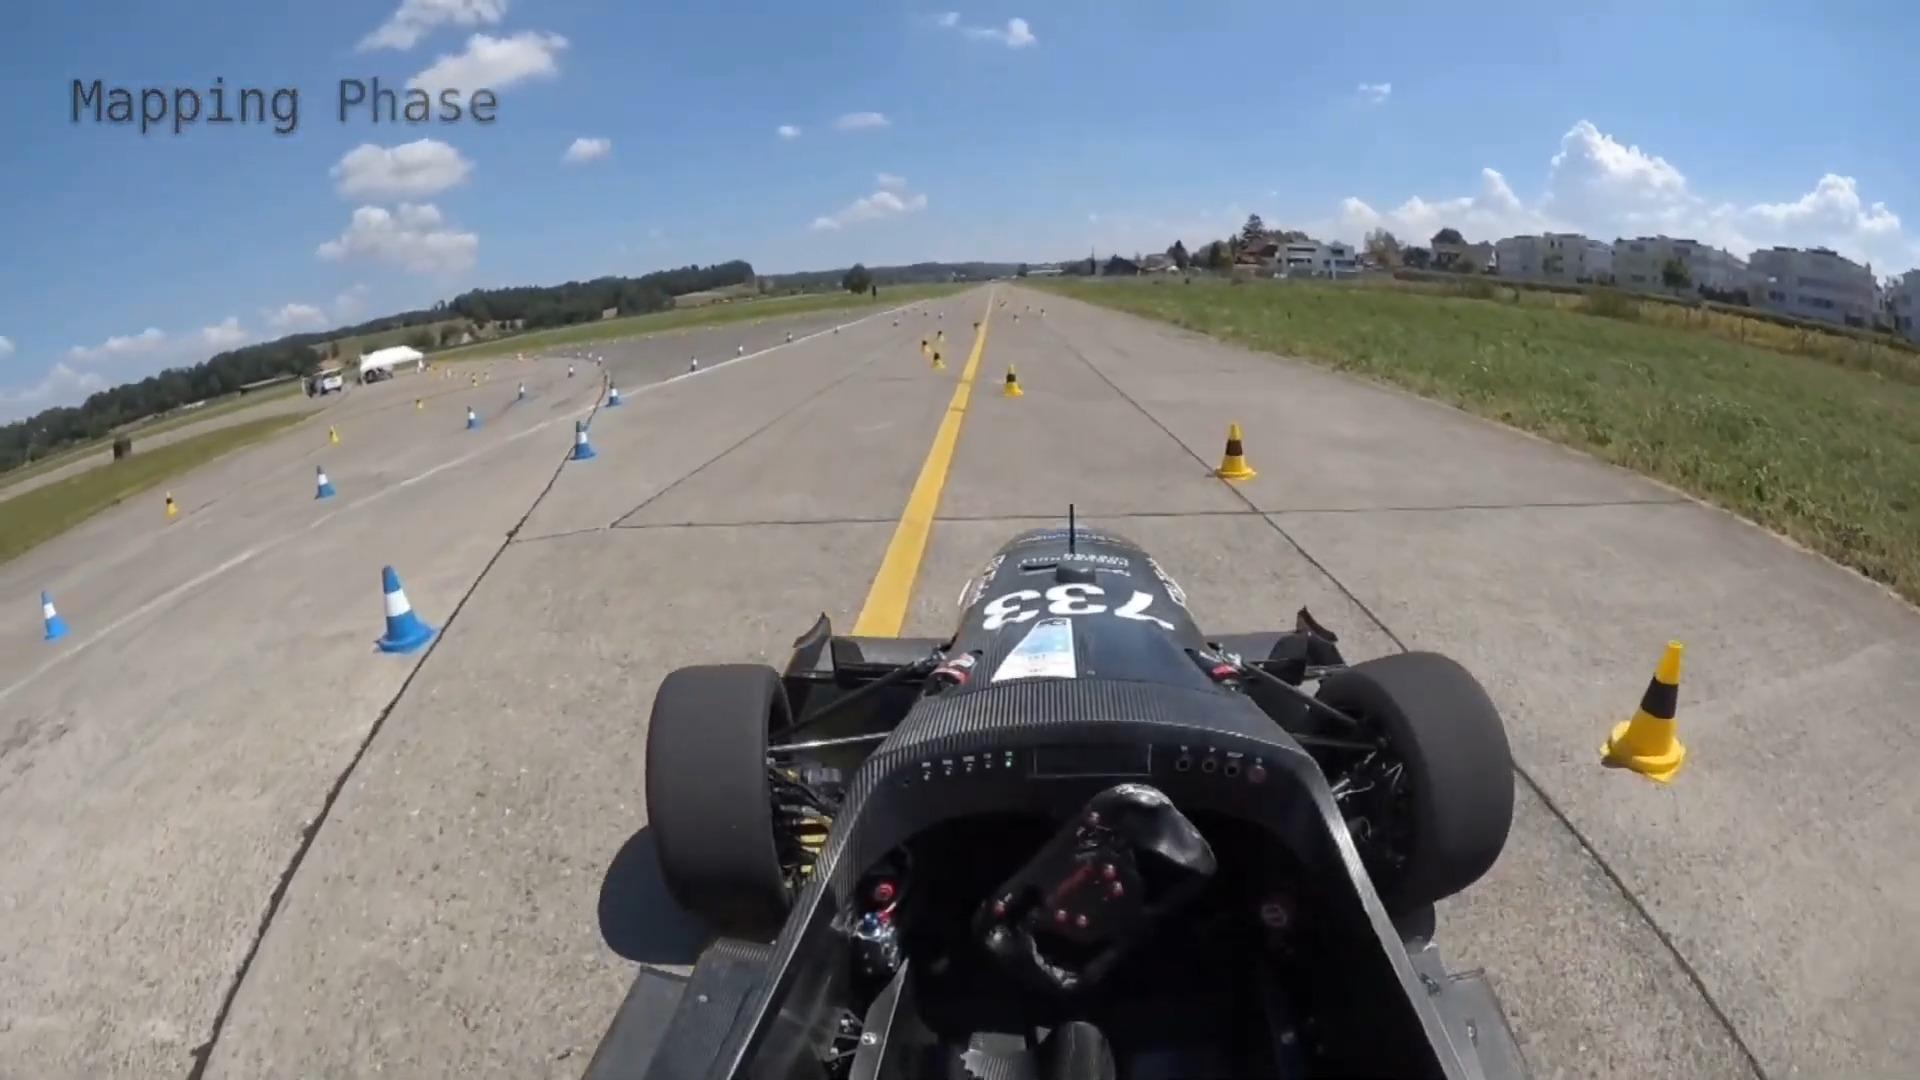blue_cone: (373, 564, 439, 655), (40, 589, 69, 641), (571, 419, 596, 463), (316, 465, 336, 501)
yellow_cone: (1601, 640, 1688, 782), (1216, 421, 1257, 483), (1002, 363, 1025, 396)
